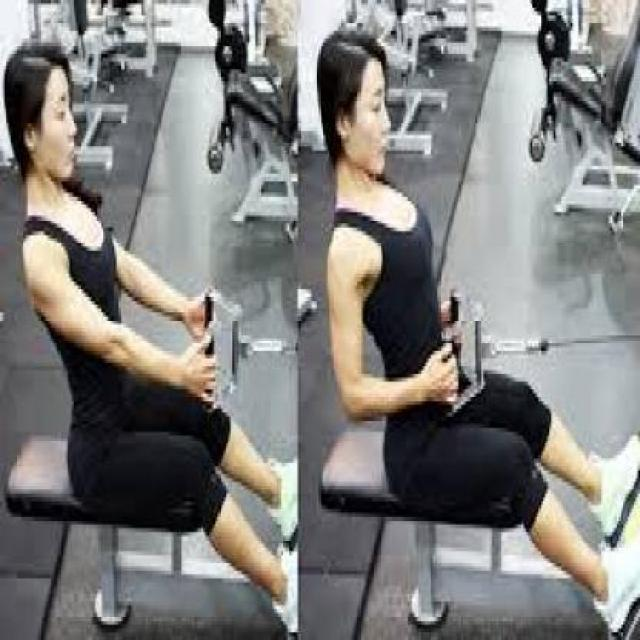Seated Cable Rows: (0, 32, 300, 626)
